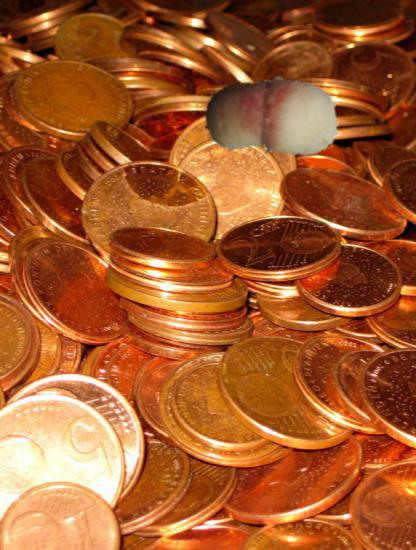Peach: (205, 53, 338, 186)
